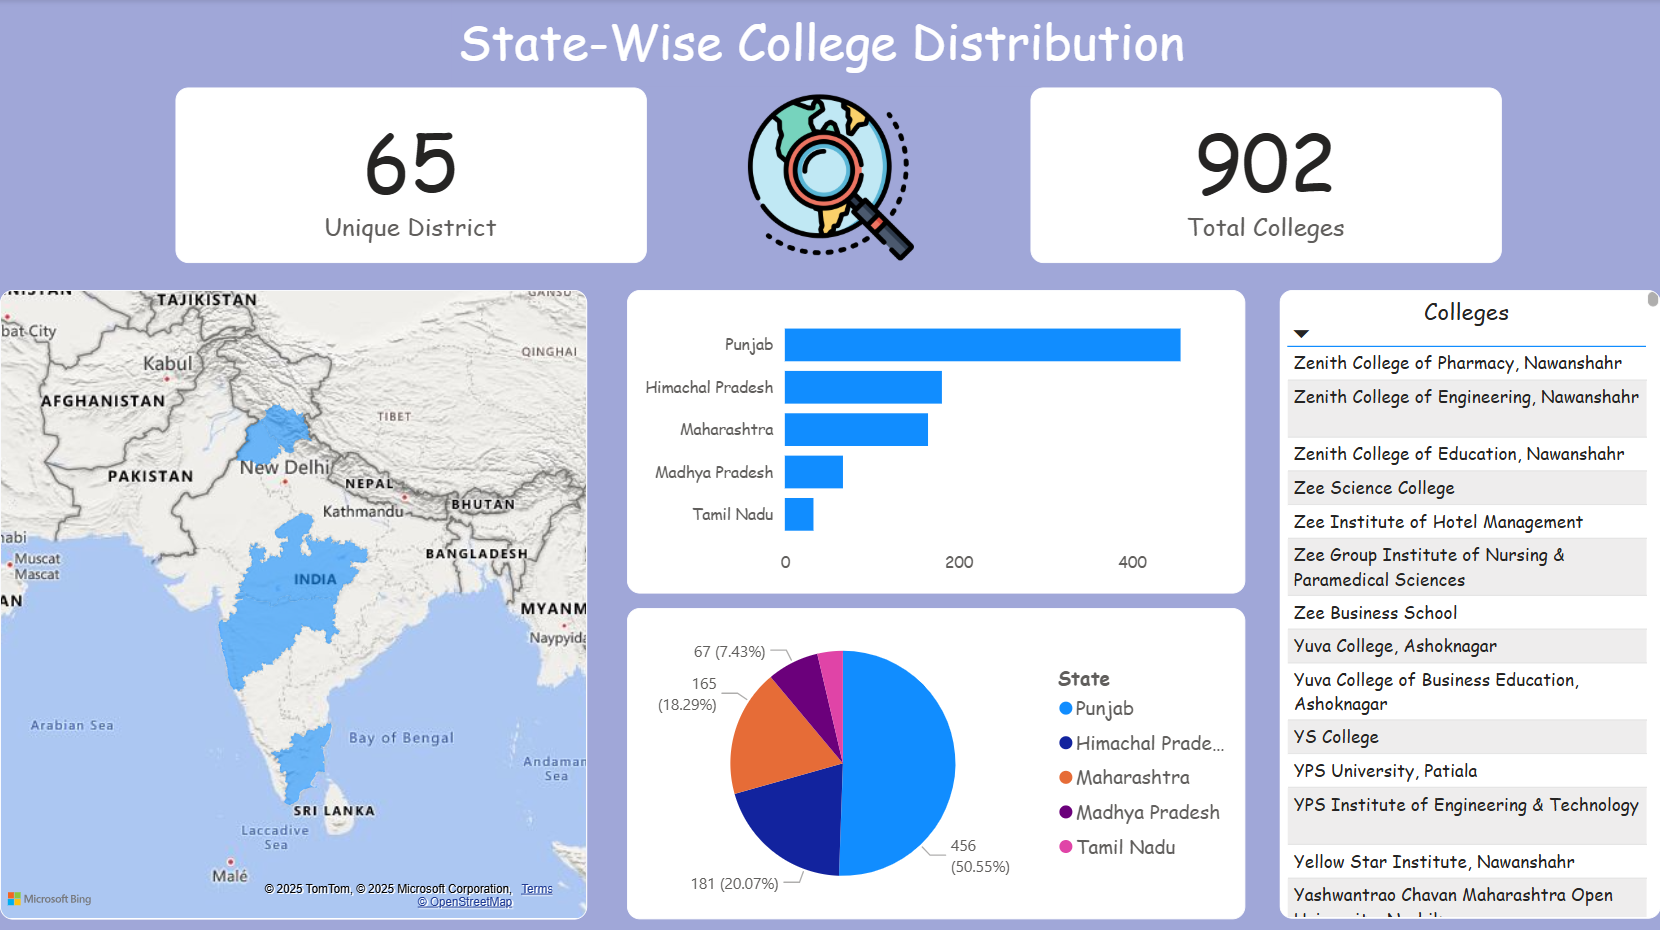

The dashboard page shown, as its layout file describes it:
{"tool":"powerbi","page":{"name":"Page 1","canvas":[1280,720],"ordinal":0},"visuals":[{"type":"textbox","box":[348.4,0,584.4,67.2],"z":0},{"type":"card","fields":{"Values":["Count(Sheet1.District)"]},"box":[135.4,67.7,363.1,135.4],"z":1000},{"type":"card","fields":{"Values":["Count(Sheet1.Sr. No)"]},"box":[793.8,67.7,363.1,135.4],"z":2000},{"type":"barChart","fields":{"Category":["Sheet1.State"],"Y":["CountNonNull(Sheet1.Sr. No)"]},"box":[482.8,223.8,476.5,233.9],"z":3000},{"type":"filledMap","fields":{"Category":["Sheet1.State"]},"box":[0,223.8,452.6,485.3],"z":4000},{"type":"pieChart","fields":{"Category":["Sheet1.State"],"Y":["CountNonNull(Sheet1.State)"]},"box":[482.8,469,476.5,240.1],"z":5000},{"type":"tableEx","fields":{"Values":["Sheet1.Name"]},"box":[986.2,224.6,293.8,484.6],"z":6000},{"type":"image","box":[570.8,67.7,138.5,138.5],"z":7000}]}

Visuals, with their boxes in screenshot pixels (x1, y1, x2, y2), scaled from the page's 1280x720 canvas onto the 1660x930 screenshot:
textbox: Rect(452, 0, 1210, 87)
card - Count(Sheet1.District): Rect(176, 87, 646, 262)
card - Count(Sheet1.Sr. No): Rect(1029, 87, 1500, 262)
barChart - Sheet1.State x CountNonNull(Sheet1.Sr. No): Rect(626, 289, 1244, 591)
filledMap - Sheet1.State: Rect(0, 289, 587, 916)
pieChart - Sheet1.State x CountNonNull(Sheet1.State): Rect(626, 606, 1244, 916)
tableEx - Sheet1.Name: Rect(1279, 290, 1659, 916)
image: Rect(740, 87, 920, 266)
